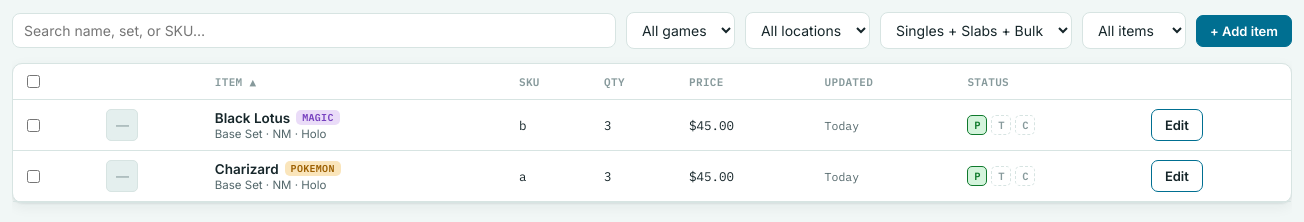
CatalogPanel — Rarity/Condition/Printing filters › resets the rarity/condition/printing filters when the game changes, instead of silently filtering everything out
Select "Pokemon" in the 1st dropdown showing "All games" at [680, 30], box x1=626 y1=12 x2=735 y2=49
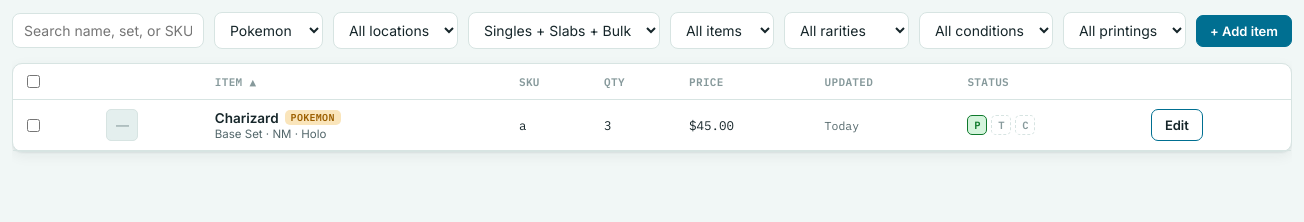
Select "Double Rare" in the 5th dropdown showing "All rarities" at [846, 30], box x1=784 y1=12 x2=909 y2=49
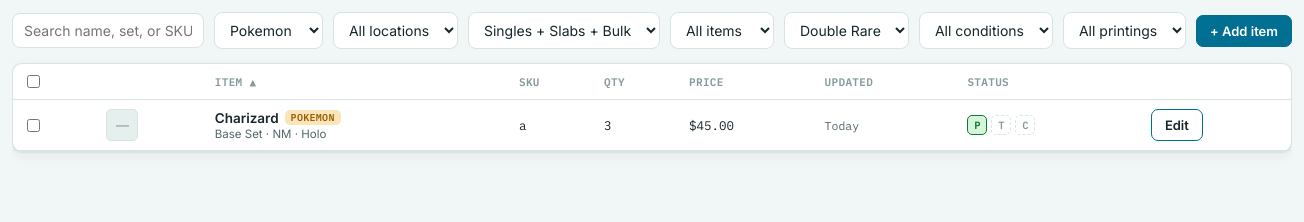
Expected: the text "Charizard" is shown, x1=215 y1=110 x2=279 y2=126
Select "Magic" in the 1st dropdown showing "Pokemon" at [268, 30], box x1=214 y1=12 x2=323 y2=49
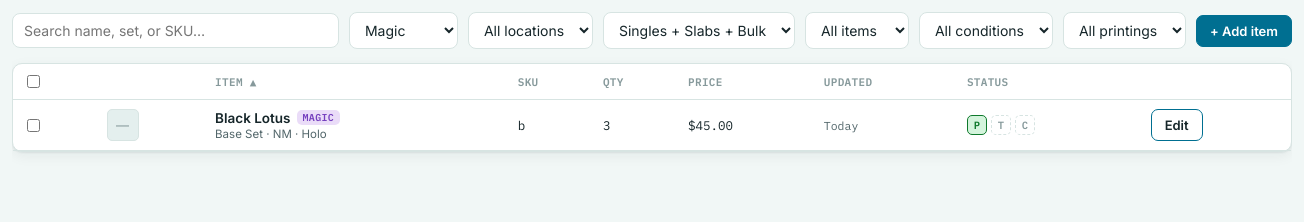
Expected: the text "All rarities" is not shown
Result: the text "Black Lotus" is shown at x1=215 y1=110 x2=290 y2=126
